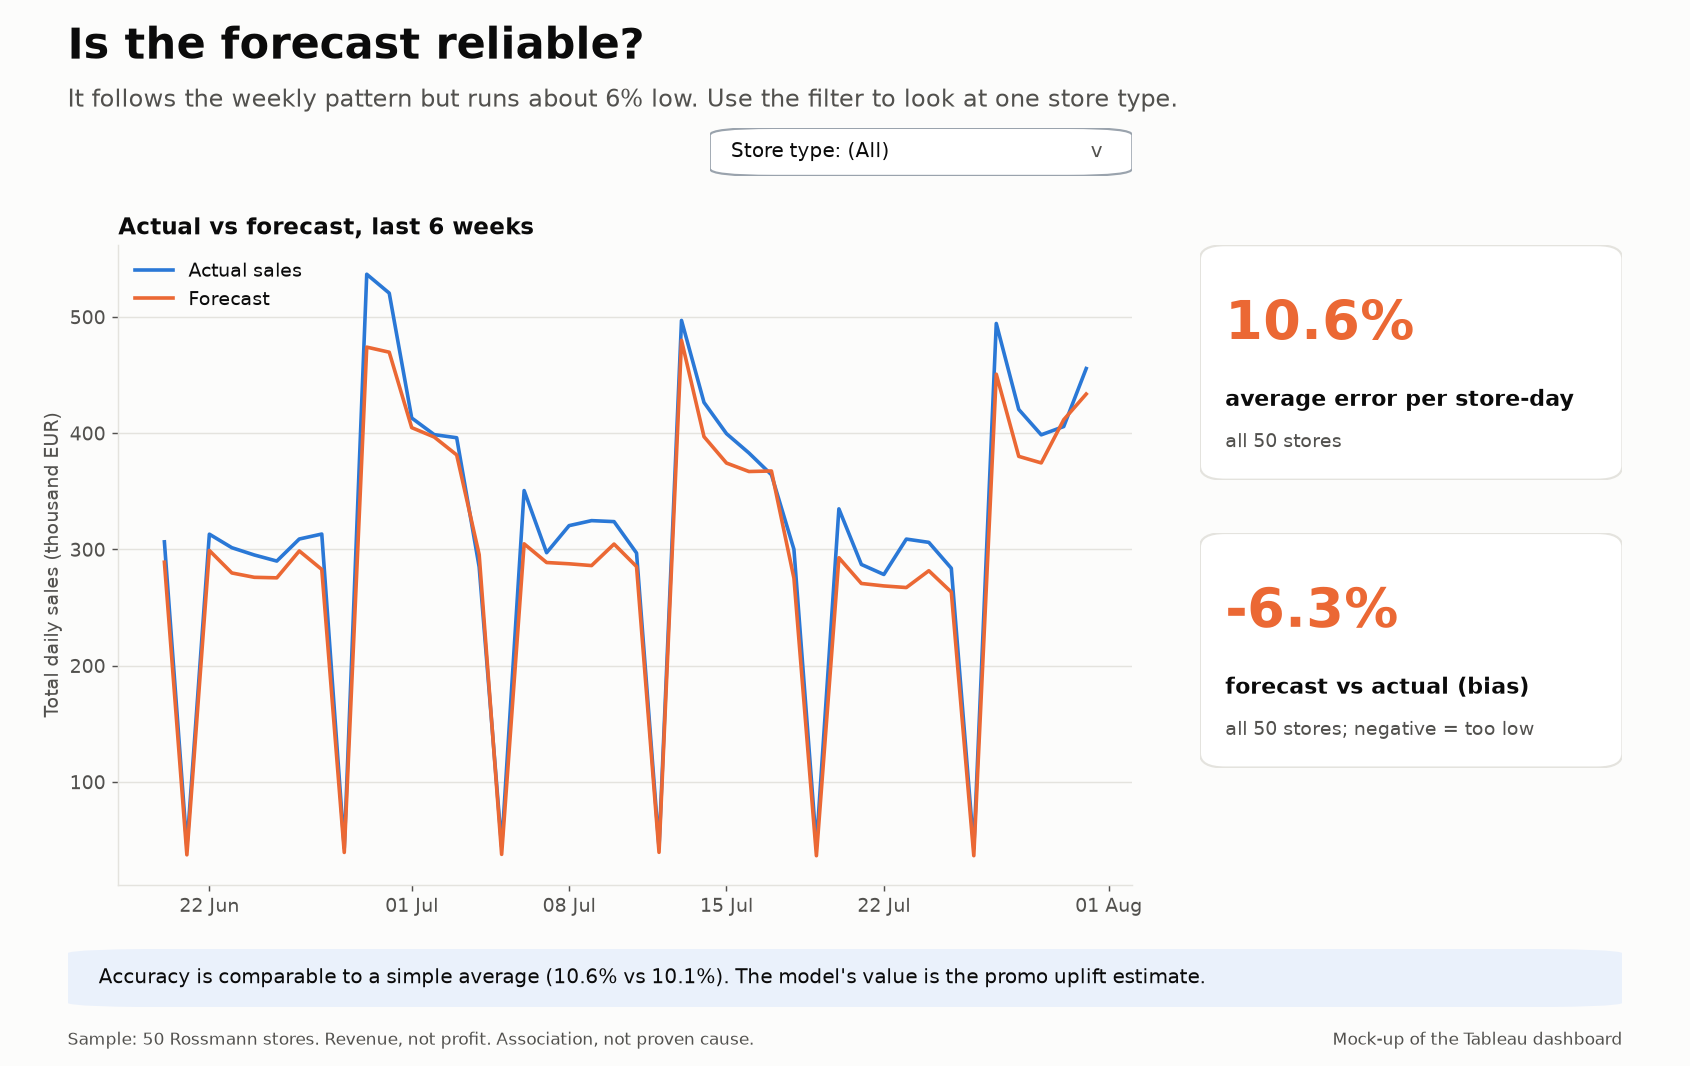

The page's visual inventory and layout, read from the dashboard file:
{"tool":"tableau","page":{"name":"Dashboard 1","canvas":[1000,1000],"units":"permille","ordinal":0},"visuals":[{"type":"worksheet","title":"Sheet 1","mark":"Automatic","box":[6.4,10.7,269.1,238.9]},{"type":"worksheet","title":"Sheet 2","mark":"Automatic","box":[275.5,10.7,306.2,238.9]},{"type":"worksheet","title":"Sheet 3","mark":"Text","box":[581.6,10.7,284.9,238.9]},{"type":"legend","title":"Sheet 4","param":"[federated.06fl1ii17ogc4s10ol3xh1hn9xuj].[none:PromoLabel:nk]","box":[866.6,10.7,127.1,88.4]},{"type":"worksheet","title":"Sheet 4","mark":"Automatic","rows":["AvgSales"],"cols":["PromoLabel"],"box":[6.4,249.7,860.2,739.6]}]}

Visuals, with their boxes on the dashboard's canvas, which has no fixed pixel size, in thousandths of its width and height (x1, y1, x2, y2). These are canvas units, not pixel positions in the 1690x1066 screenshot, which may show the page scaled, cropped or inside an application window:
"Sheet 1" worksheet: 6/11/276/250
"Sheet 2" worksheet: 276/11/582/250
"Sheet 3" worksheet (Text marks): 582/11/866/250
"Sheet 4" legend: 867/11/994/99
"Sheet 4" worksheet: 6/250/867/989
